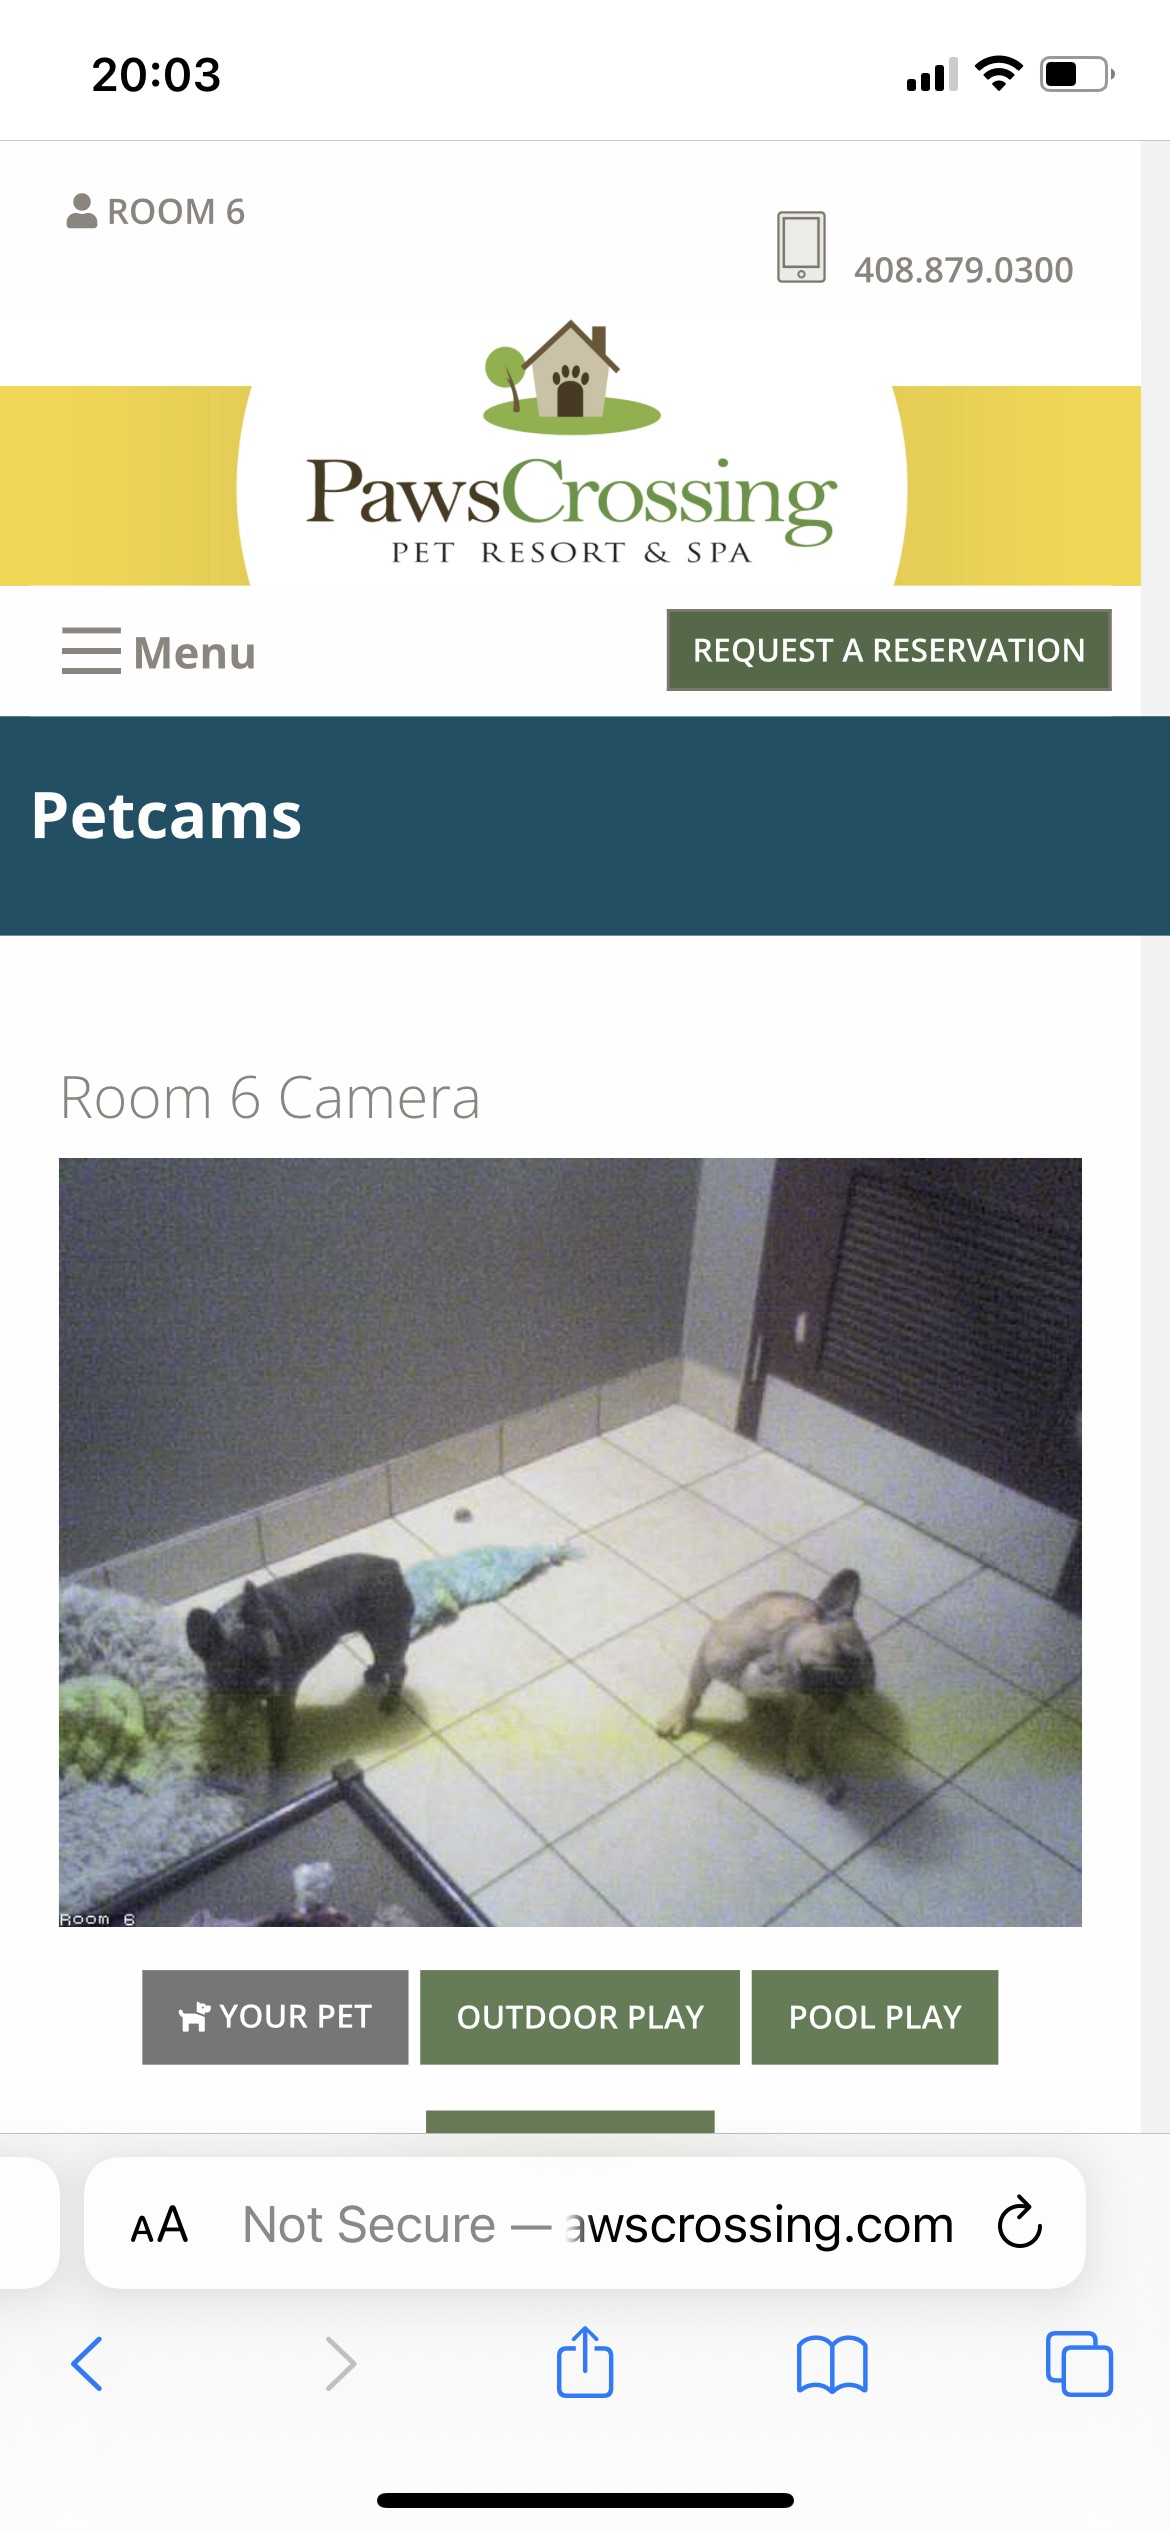lucy: (178, 1549, 428, 1780)
